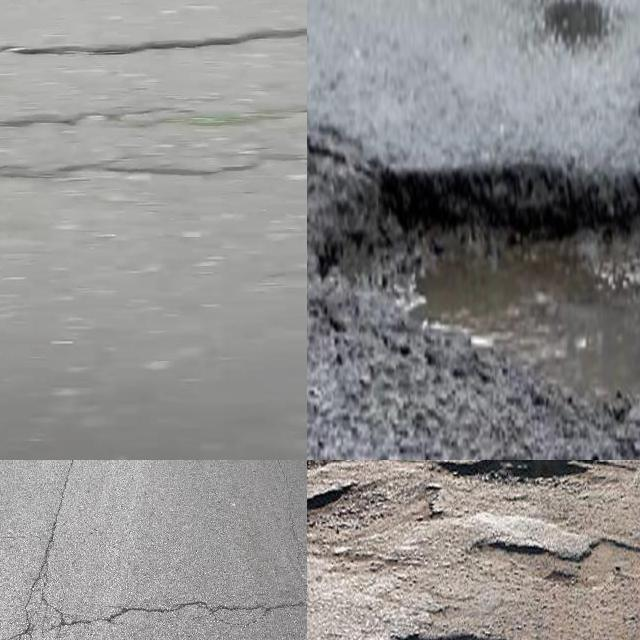Lubang: (323, 169, 640, 409), (441, 460, 629, 526)
Melintang: (0, 20, 307, 71), (17, 588, 307, 640), (0, 148, 307, 188)
Memanjang: (11, 460, 89, 640)
